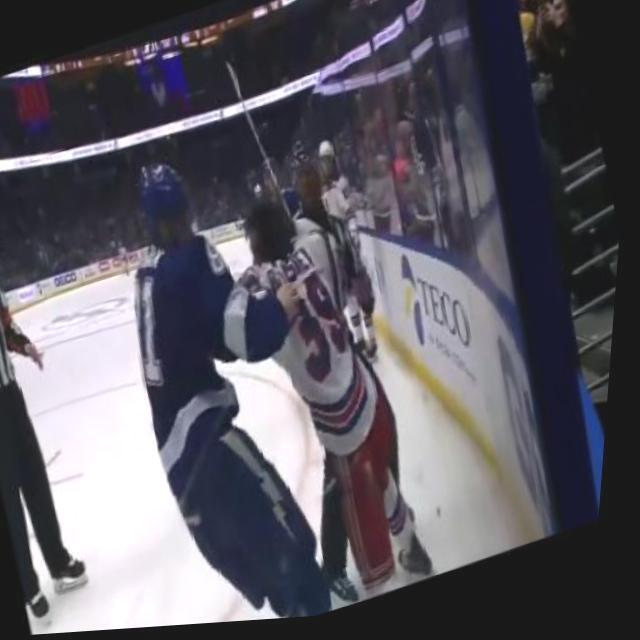fight: (74, 97, 469, 634)
